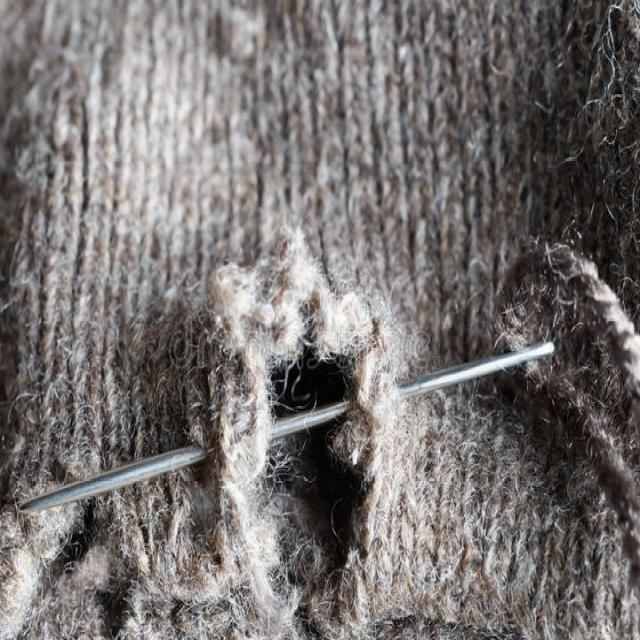clothes: (54, 173, 617, 620)
